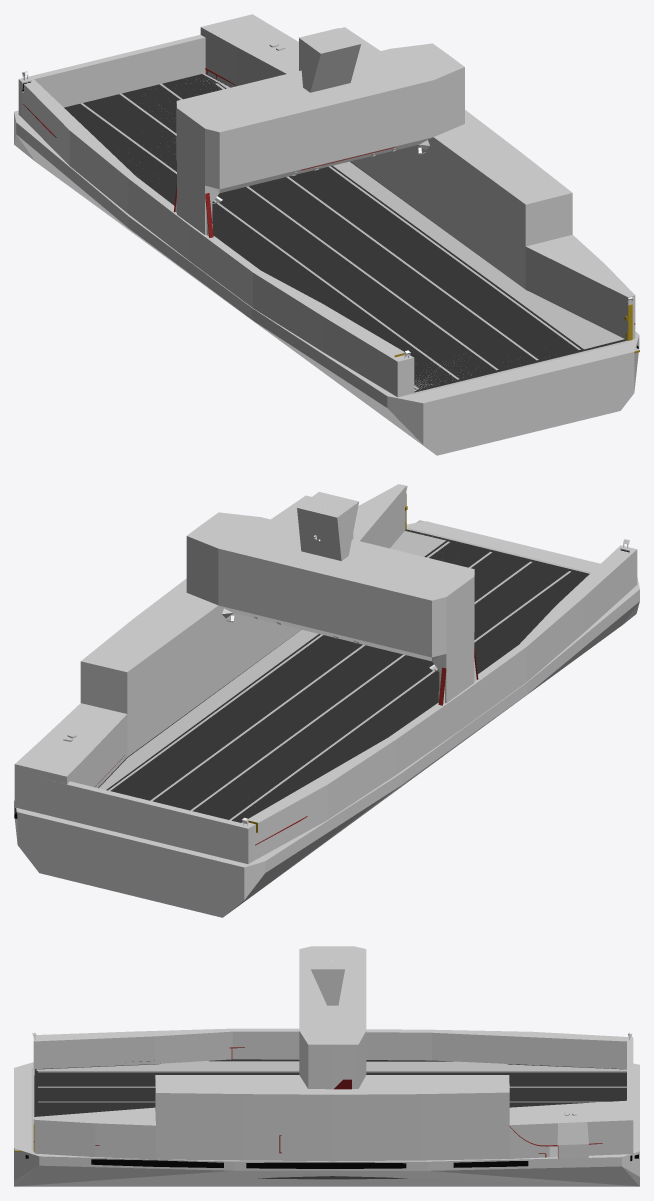
The model's file is s_hbp_ferry.dae.
The picture shows the model from 3 angles, top to bottom: view 1: azimuth 30°, elevation 25°; view 2: azimuth 150°, elevation 25°; view 3: azimuth 270°, elevation 25°; orthographic projection. The views are drawn at different scales.
Visible parts, largest first — view 1: colmesh-1, cube.002_a200; view 2: colmesh-1, cube.002_a200; view 3: colmesh-1, cube.002_a200.
Boxes of the visible parts, x1,y1,x2,y2 form: colmesh-1: (14, 14, 639, 455); cube.002_a200: (22, 38, 639, 394); colmesh-1: (14, 484, 639, 917); cube.002_a200: (14, 486, 629, 845); colmesh-1: (14, 946, 639, 1186); cube.002_a200: (14, 961, 638, 1179).
Size of the model in its own units: 21.33 by 53.34 by 17.97.
